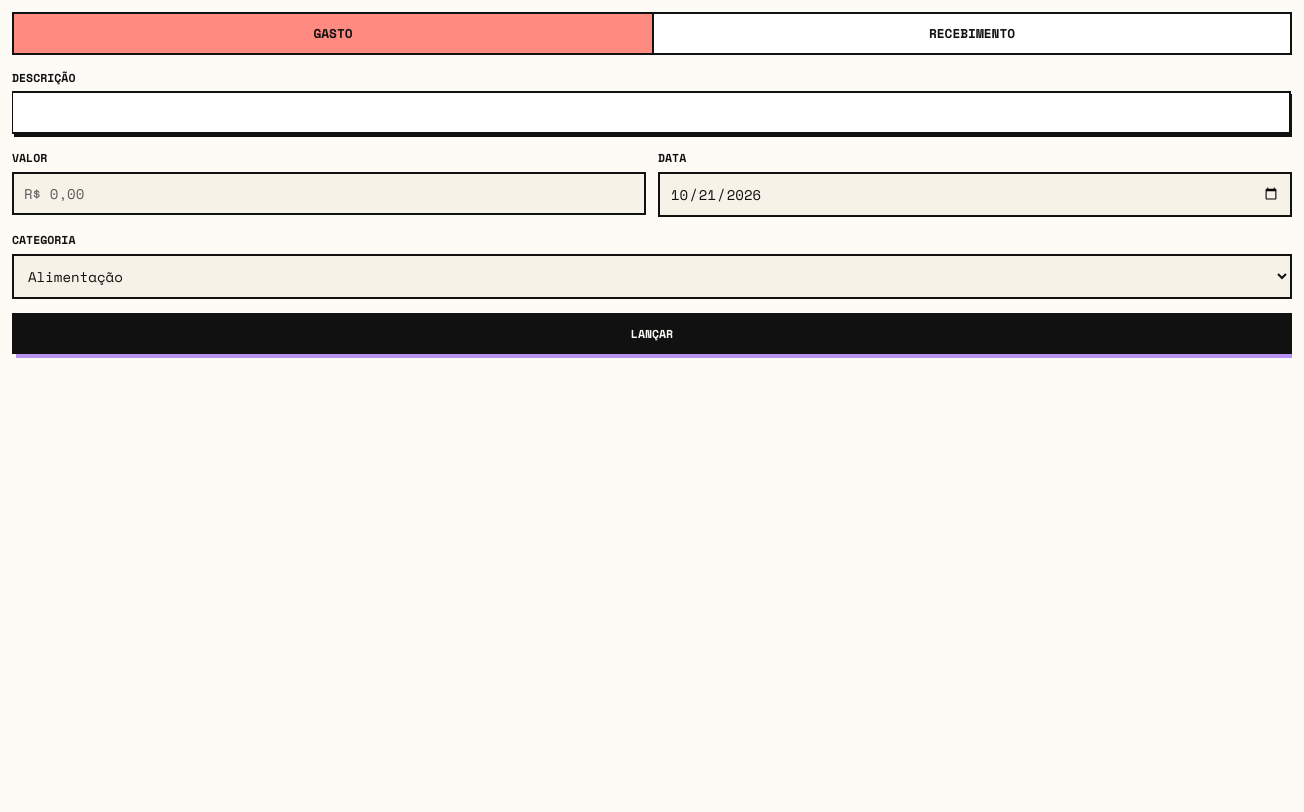
it: TransactionForm › envia um recebimento e mostra toast de sucesso
Click the button "Recebimento" at (971, 34), box [652,14,1290,53]
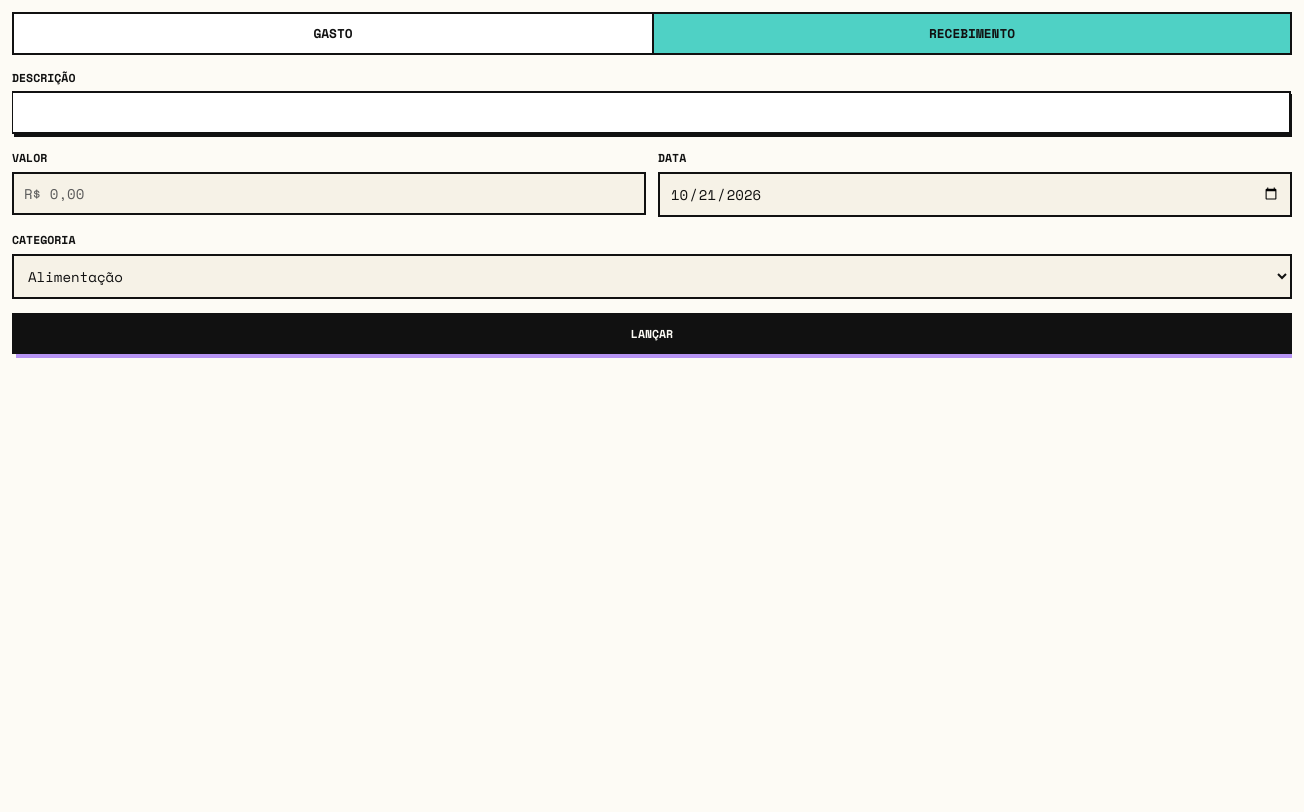
Type "Freela" into the field labelled "Descrição" at (651, 112), box [11,91,1291,134]
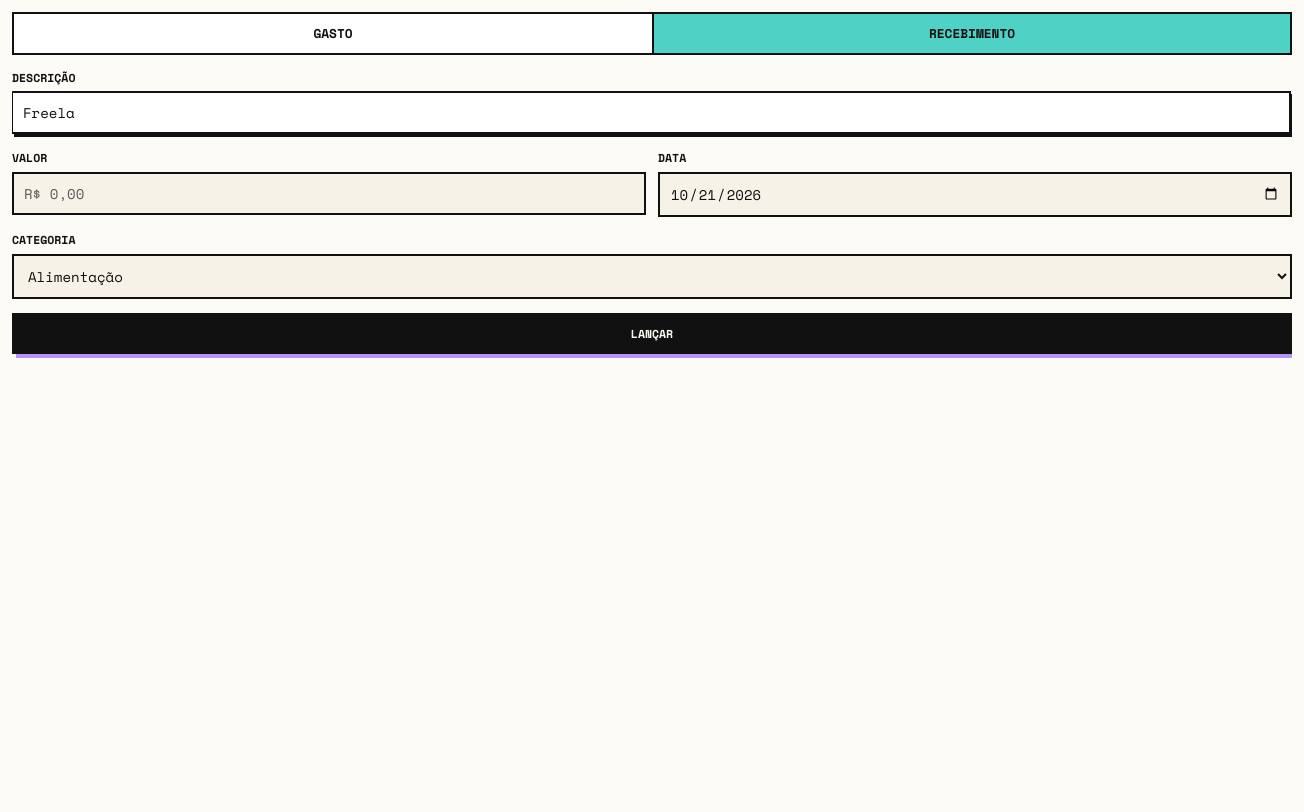
Type "150075" into the field labelled "Valor" at (329, 194), box [12,172,646,215]
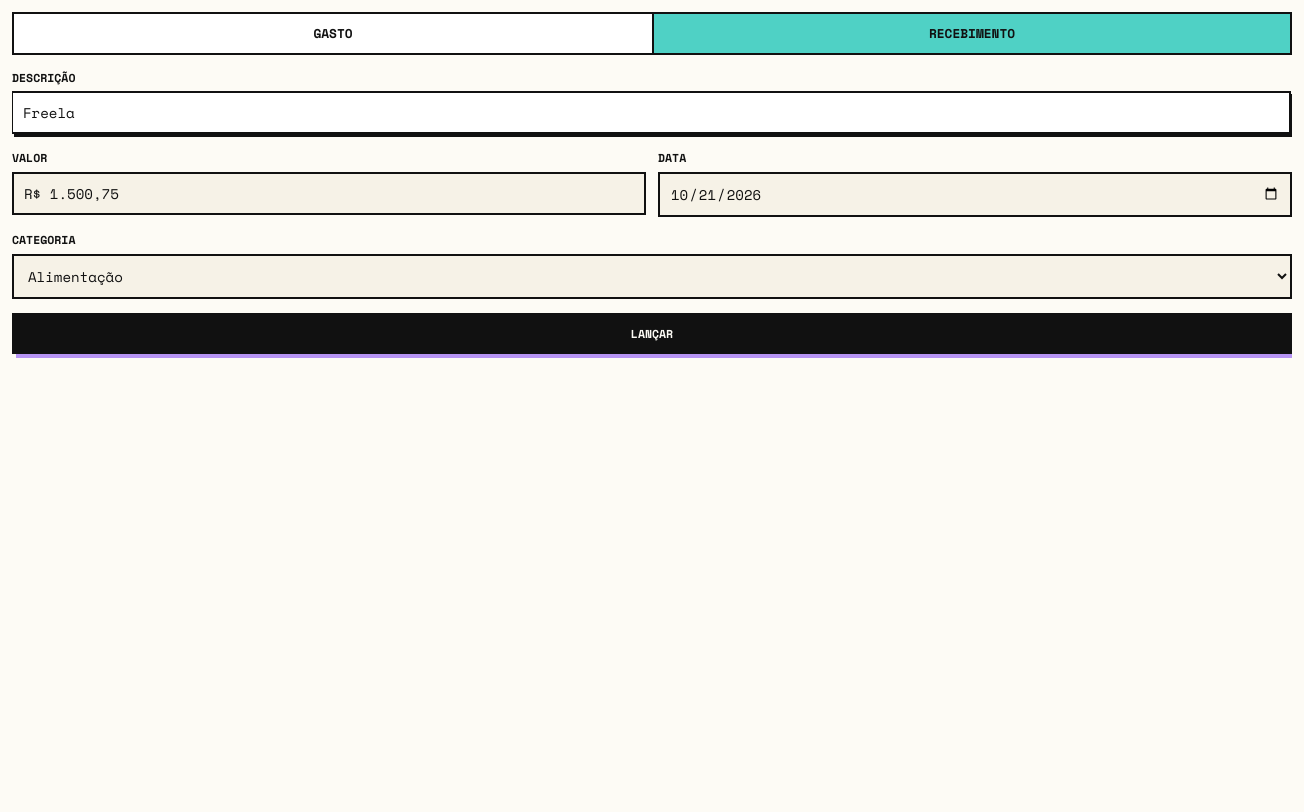
Select "Salário" in the dropdown labelled "Categoria" at (652, 276), box [12,254,1292,299]
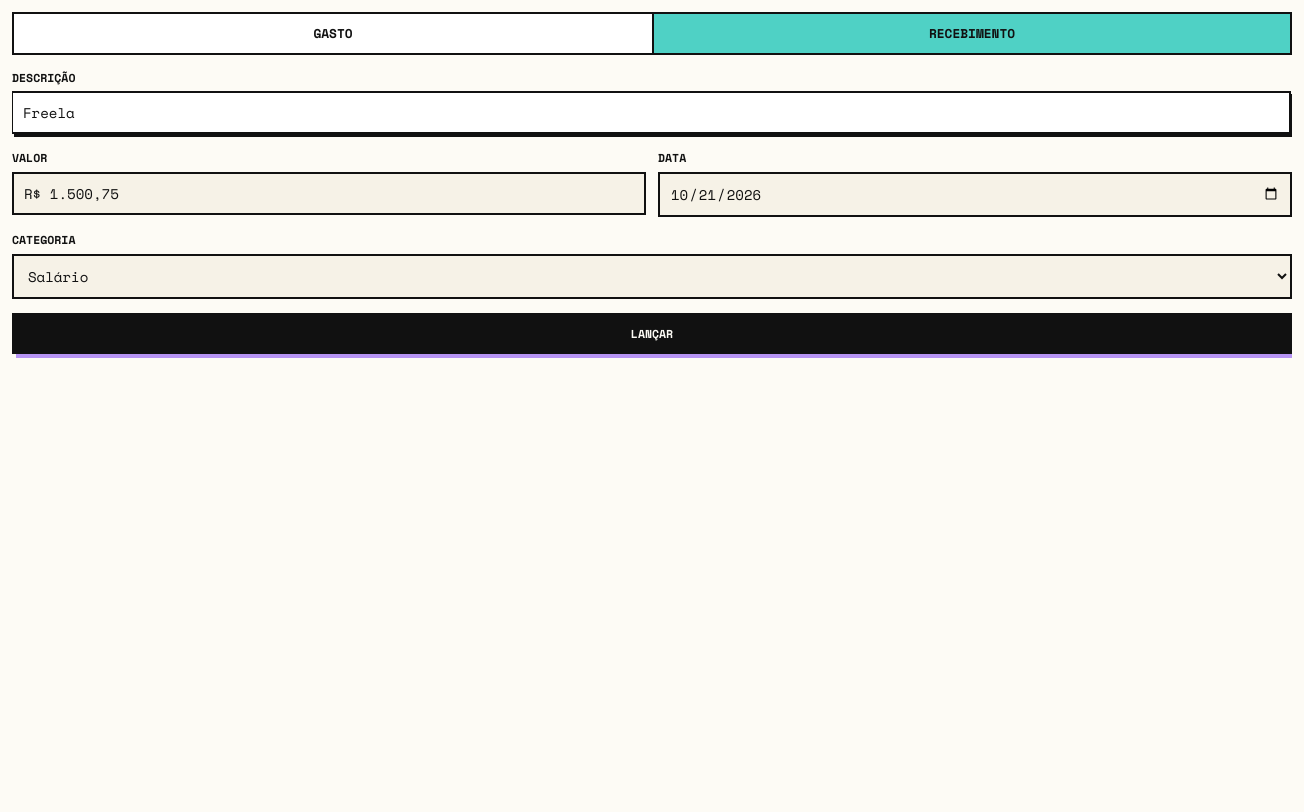
Click the button "Lançar" at (652, 334), box [12,313,1292,354]
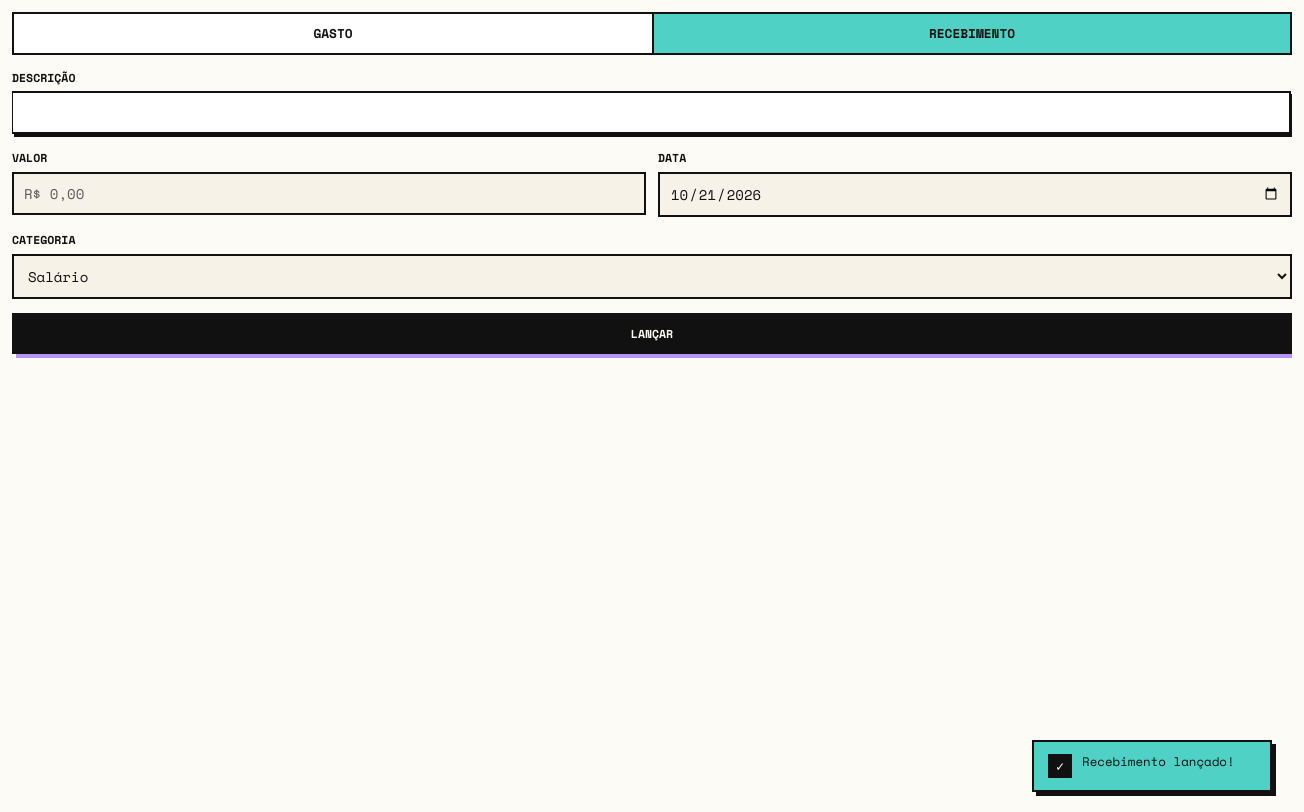
Result: the text "Recebimento lançado!" is shown at [1082,754,1235,771]
